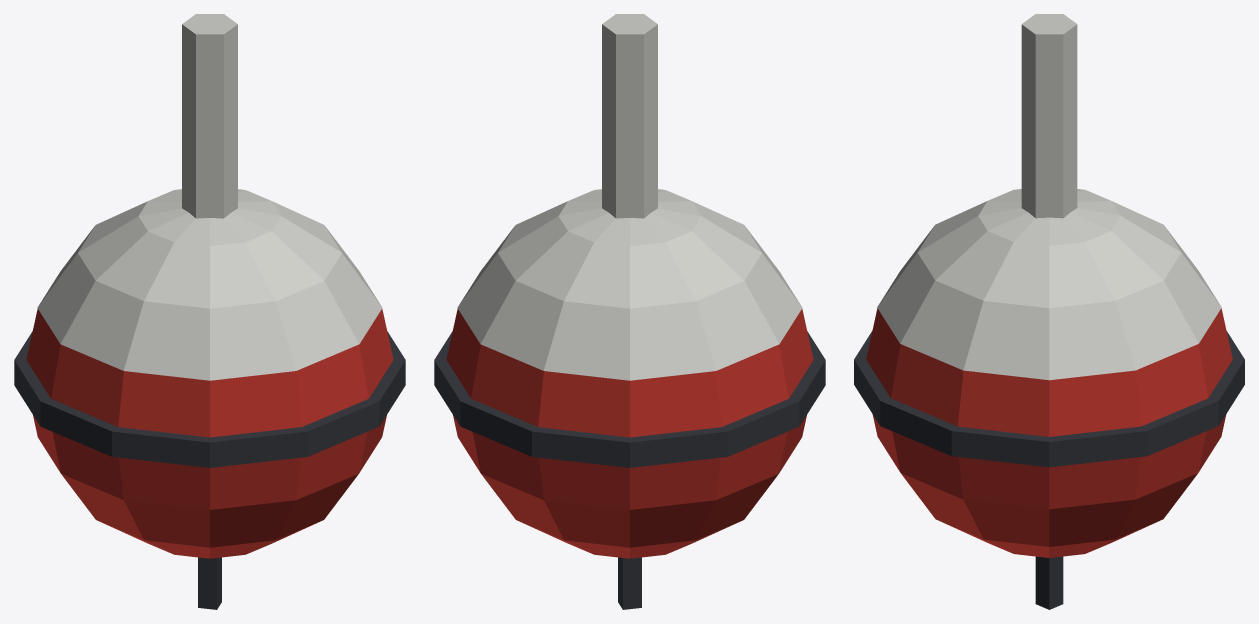
Rendered from Bobber.glb.
3 renders of one model, left to right at view 1: azimuth 30°, elevation 25°; view 2: azimuth 150°, elevation 25°; view 3: azimuth 270°, elevation 25°, orthographic.
Visible parts, largest first — view 1: Bobber; view 2: Bobber; view 3: Bobber.
Part boxes in pixels (bbox=[...]): Bobber: bbox=[14, 14, 405, 609]; Bobber: bbox=[434, 14, 825, 609]; Bobber: bbox=[854, 14, 1244, 609].
Bounding box in the file's own units: 0.84 × 1.38 × 0.84.
